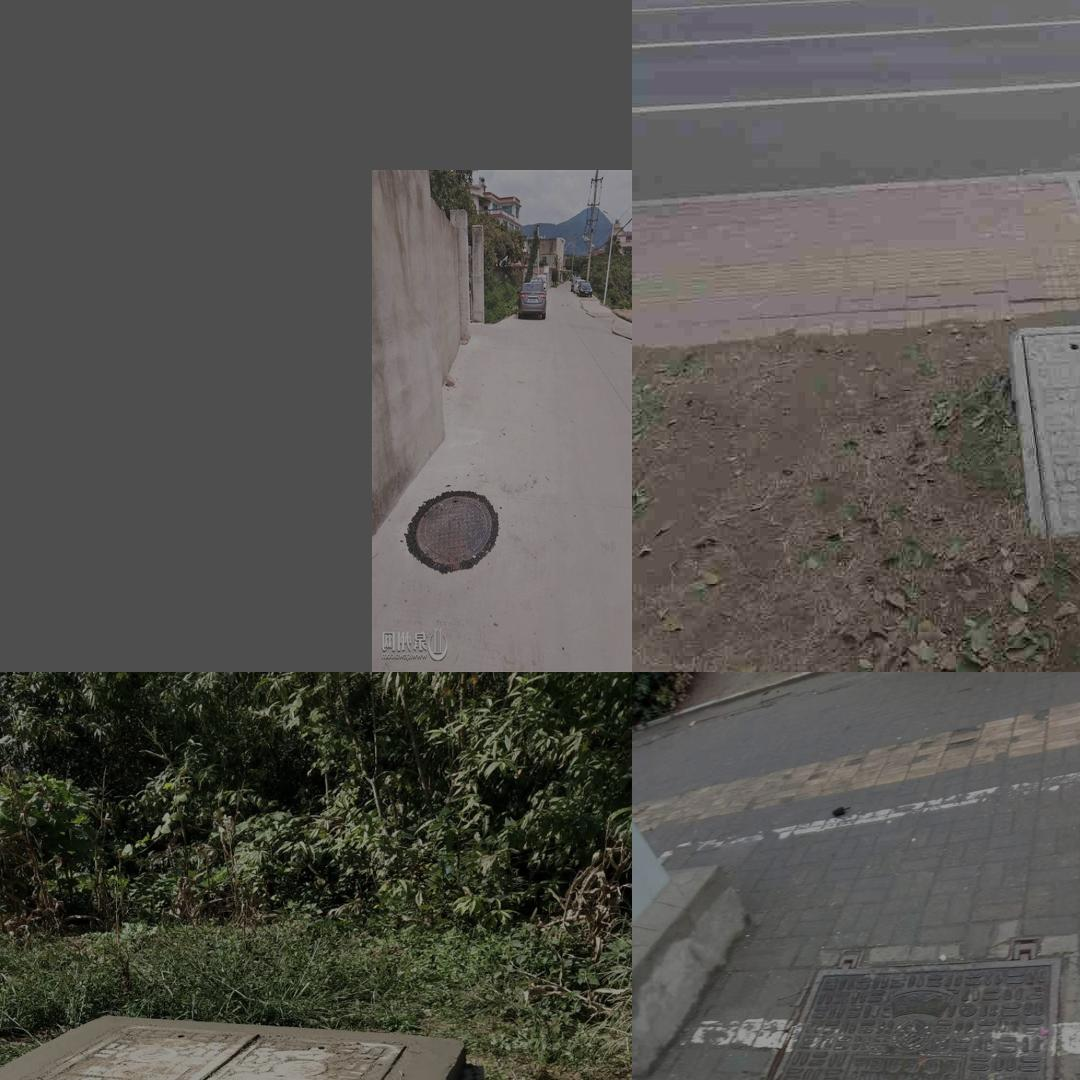good: (757, 938, 1062, 1080), (21, 1005, 411, 1080), (1009, 314, 1080, 550), (393, 478, 511, 582)
